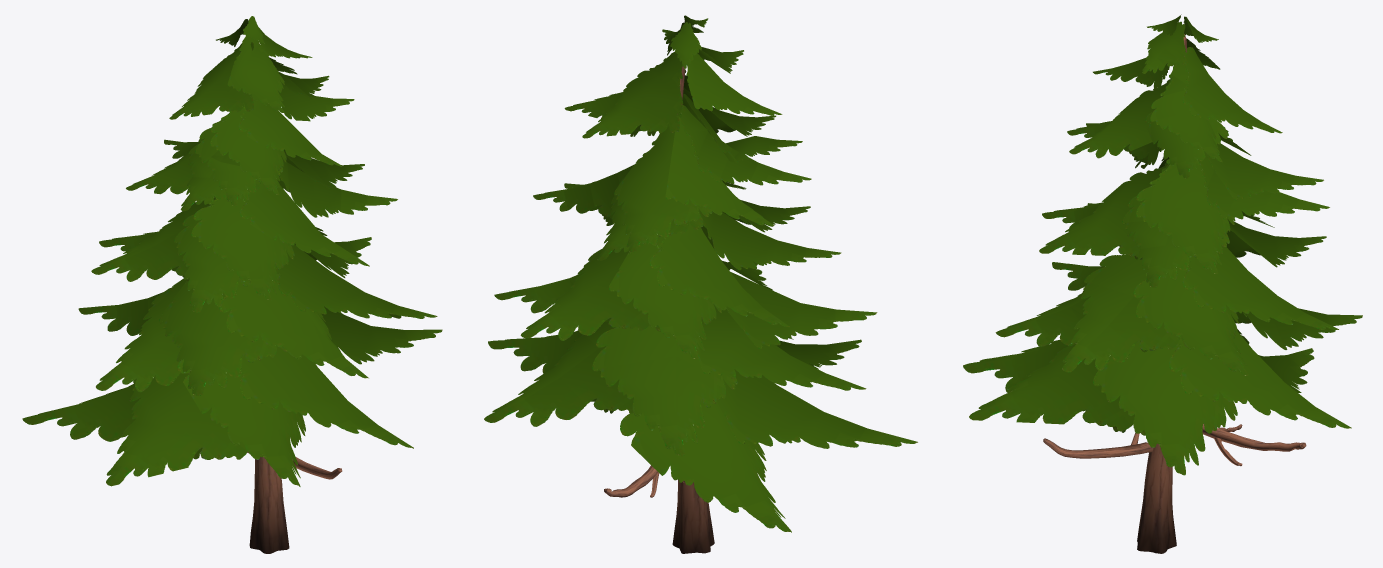
Rendered from prop_pine_2.glb.
The picture shows the model from 3 angles, left to right: view 1: azimuth 30°, elevation 25°; view 2: azimuth 150°, elevation 25°; view 3: azimuth 270°, elevation 25°; orthographic projection. The views are drawn at different scales.
Parts seen in each view (by area): view 1: Pine_2; view 2: Pine_2; view 3: Pine_2.
Boxes of the visible parts, x1,y1,x2,y2 form: Pine_2: (22,16,442,553); Pine_2: (484,15,917,553); Pine_2: (963,14,1362,553).
Size of the model in its own units: 5.73 by 7.38 by 5.22.
2 materials, 2 textured.
